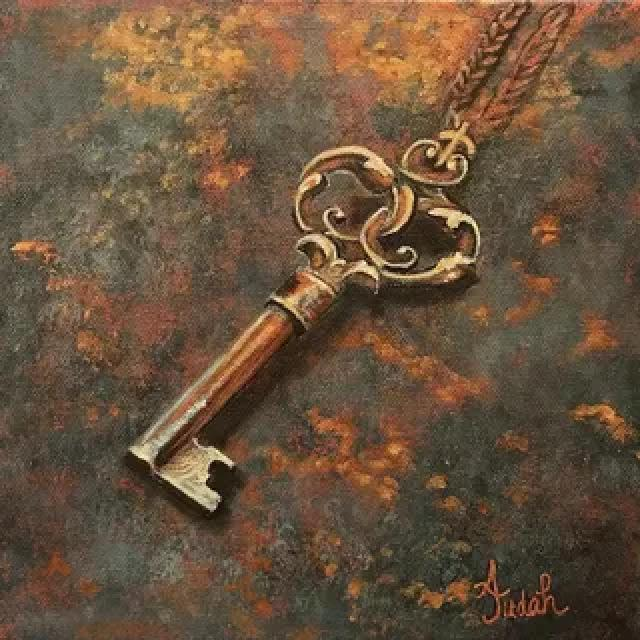key: (118, 125, 493, 530)
